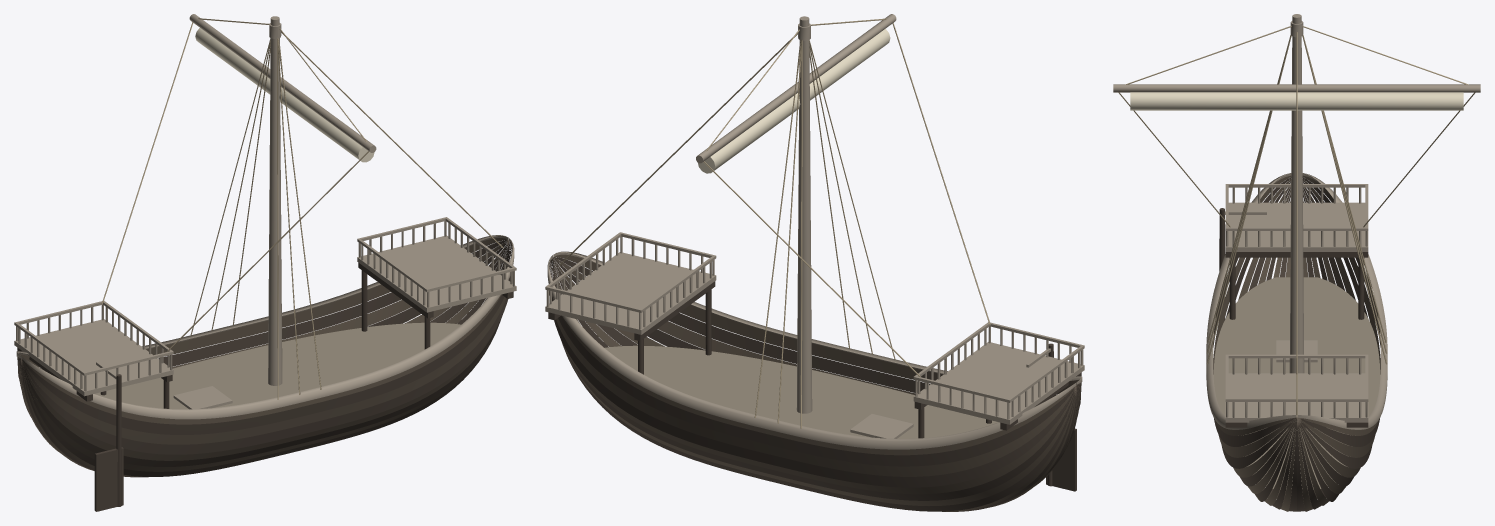
The model's file is hulk.glb.
3 views of the same model, side by side, from view 1: azimuth 30°, elevation 25°; view 2: azimuth 150°, elevation 25°; view 3: azimuth 270°, elevation 25° (orthographic). The views are drawn at different scales.
Visible parts, largest first — view 1: tar, tarLight, deck, oak, castle-platform.001, castle-platform, hemp, mast, sail-furled, yard, rudder-blade, deck-hatch (+1 smaller); view 2: tar, tarLight, deck, oak, castle-platform.001, castle-platform, hemp, mast, sail-furled, yard, deck-hatch, rudder-blade; view 3: deck, tarLight, tar, sail-furled, castle-platform.001, castle-platform, hemp, mast, oak, yard, castle-beam-front, castle-rail-inboard.001 (+4 smaller).
Part boxes in pixels (box(x1,y1,x2,y2)): tar: box(17, 240, 512, 477); tarLight: box(17, 238, 512, 476); deck: box(95, 322, 460, 409); oak: box(16, 235, 514, 419); castle-platform.001: box(357, 235, 516, 312); castle-platform: box(14, 319, 173, 396); hemp: box(102, 18, 503, 399); mast: box(268, 16, 282, 385); sail-furled: box(195, 28, 374, 162); yard: box(189, 14, 376, 152); rudder-blade: box(94, 447, 123, 511); deck-hatch: box(173, 386, 232, 409); tar: box(549, 257, 1081, 511); tarLight: box(549, 254, 1081, 511); deck: box(605, 345, 998, 438); oak: box(547, 251, 1082, 449); castle-platform.001: box(545, 252, 716, 334); castle-platform: box(913, 342, 1084, 424); hemp: box(559, 18, 990, 428); mast: box(796, 16, 812, 413); sail-furled: box(697, 29, 890, 173); yard: box(696, 14, 896, 163); deck-hatch: box(850, 414, 913, 438); rudder-blade: box(1046, 428, 1076, 491); deck: box(1213, 277, 1380, 489); tarLight: box(1213, 175, 1380, 511); tar: box(1213, 177, 1380, 511); sail-furled: box(1130, 92, 1463, 110); castle-platform.001: box(1225, 373, 1368, 422); castle-platform: box(1225, 202, 1368, 251); hemp: box(1118, 25, 1475, 418); mast: box(1289, 14, 1304, 373); oak: box(1206, 173, 1387, 429); yard: box(1113, 84, 1480, 92); castle-beam-front: box(1225, 252, 1368, 257); castle-rail-inboard.001: box(1226, 354, 1367, 358).
Bounding box in the file's own units: 25 × 20.91 × 16.
